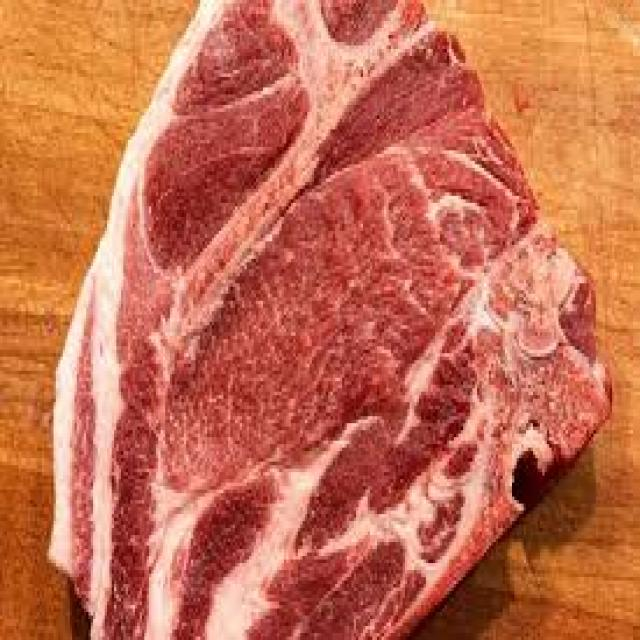pork: (49, 3, 612, 640)
